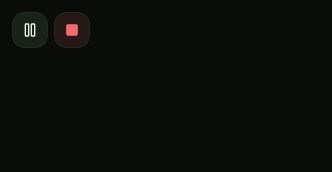
Test: TimerControls › pauses with the session version so a stale tab is detected, then resumes
This screenshot has width=332, height=172.
What coordinates should you click on to do the following:
click the button named "Pause timer"
I would click on:
 (30, 30)
Its box is top-left (12, 12), bottom-right (48, 48).
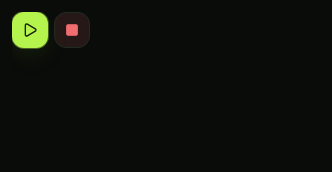
What coordinates should you click on to do the following:
click the button named "Resume timer"
I would click on:
 (30, 30)
Its box is top-left (12, 12), bottom-right (48, 48).
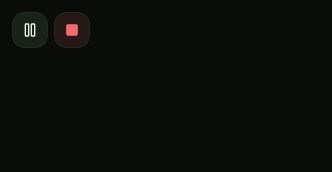
Now the button named "Pause timer" is shown, box top-left (12, 12), bottom-right (48, 48)
